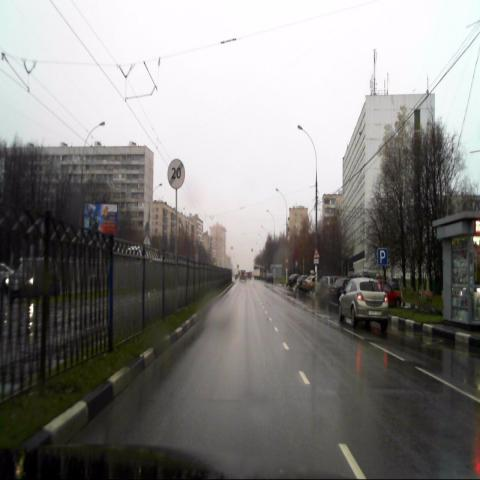3_25: (168, 158, 184, 188)
